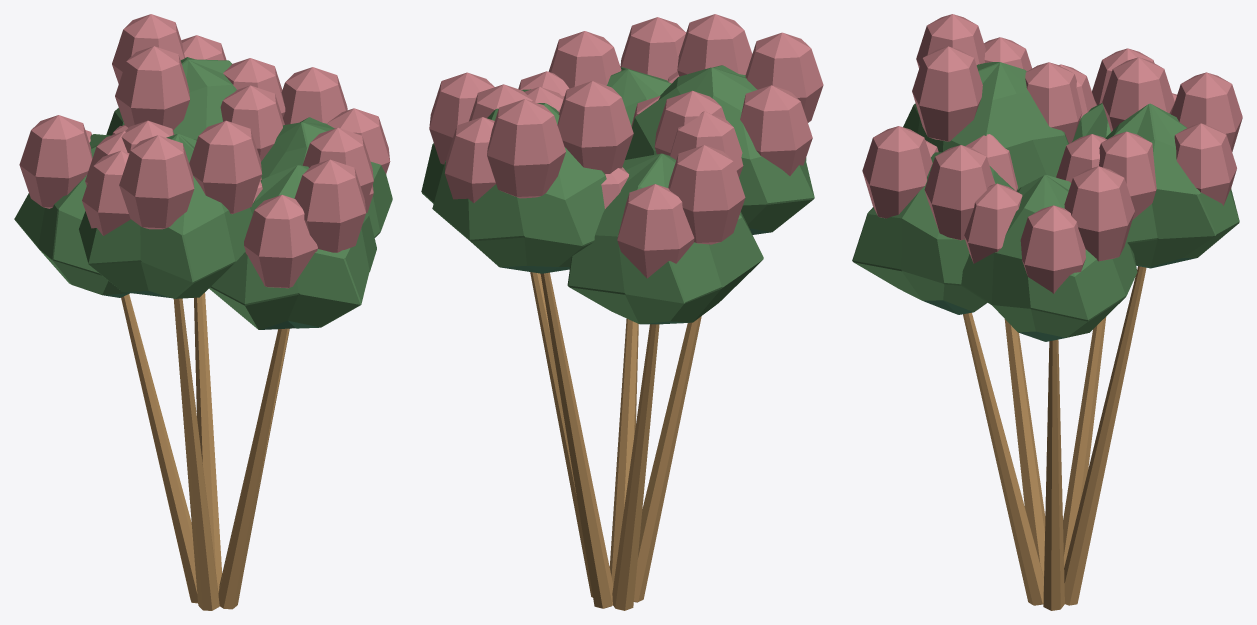
The model's file is b08_crape_myrtle.glb.
The picture shows the model from 3 angles, left to right: view 1: azimuth 30°, elevation 25°; view 2: azimuth 150°, elevation 25°; view 3: azimuth 270°, elevation 25°; orthographic projection. The views are drawn at different scales.
Parts seen in each view (by area): view 1: b08_crape_myrtle; view 2: b08_crape_myrtle; view 3: b08_crape_myrtle.
Boxes of the visible parts, x1,y1,x2,y2 form: b08_crape_myrtle: (14,14,392,610); b08_crape_myrtle: (421,14,823,610); b08_crape_myrtle: (852,14,1242,610).
Bounding box in the file's own units: 2.58 × 3.94 × 2.62.
